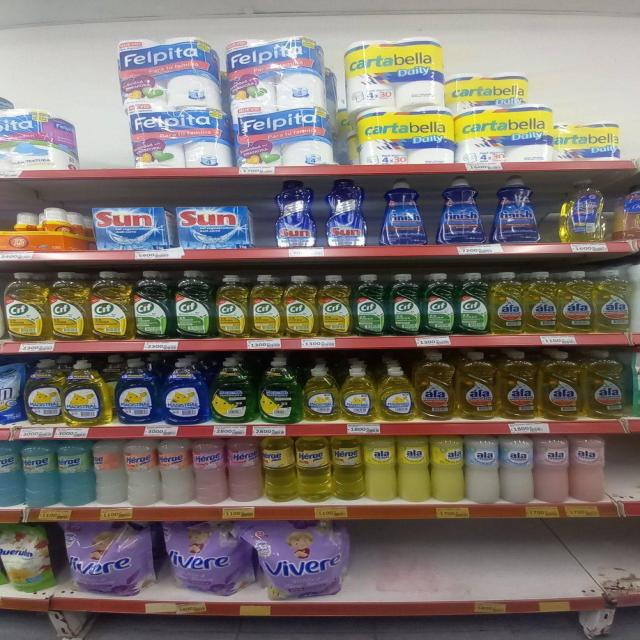ala_conc_amarillo: (583, 350, 627, 420), (539, 349, 581, 420), (456, 350, 496, 420), (498, 350, 537, 420), (416, 350, 454, 420), (595, 268, 631, 333), (558, 269, 594, 333), (524, 270, 557, 334), (490, 271, 523, 334)
ala_crem_amarillo: (431, 434, 464, 502), (398, 435, 430, 502), (365, 435, 397, 502)
ala_crem_blanco: (500, 434, 534, 503), (466, 435, 499, 503)
ala_crem_rosado: (570, 434, 608, 502), (534, 435, 570, 503)
cif_conc_bot_amarilla: (4, 271, 47, 342), (90, 270, 132, 340), (49, 270, 88, 340), (318, 274, 352, 337), (249, 274, 282, 338), (284, 274, 316, 338), (216, 274, 248, 338)
cif_conc_botella_verde: (133, 270, 172, 340), (174, 270, 214, 338), (387, 273, 421, 336), (352, 274, 386, 336), (422, 272, 455, 335), (456, 271, 488, 335)
heroe: (23, 439, 57, 507), (262, 435, 296, 502), (59, 439, 93, 506), (159, 437, 192, 505), (193, 438, 227, 504), (298, 435, 331, 502), (228, 436, 261, 502), (126, 438, 158, 506), (332, 435, 364, 501), (0, 439, 23, 506)
magistral_con_amarillo: (64, 359, 111, 426), (25, 358, 62, 425), (339, 365, 376, 422), (378, 366, 415, 421), (303, 366, 338, 422)
magistral_con_azul: (161, 357, 207, 425), (114, 358, 159, 424)
zorro: (558, 177, 609, 243), (615, 173, 640, 240)
